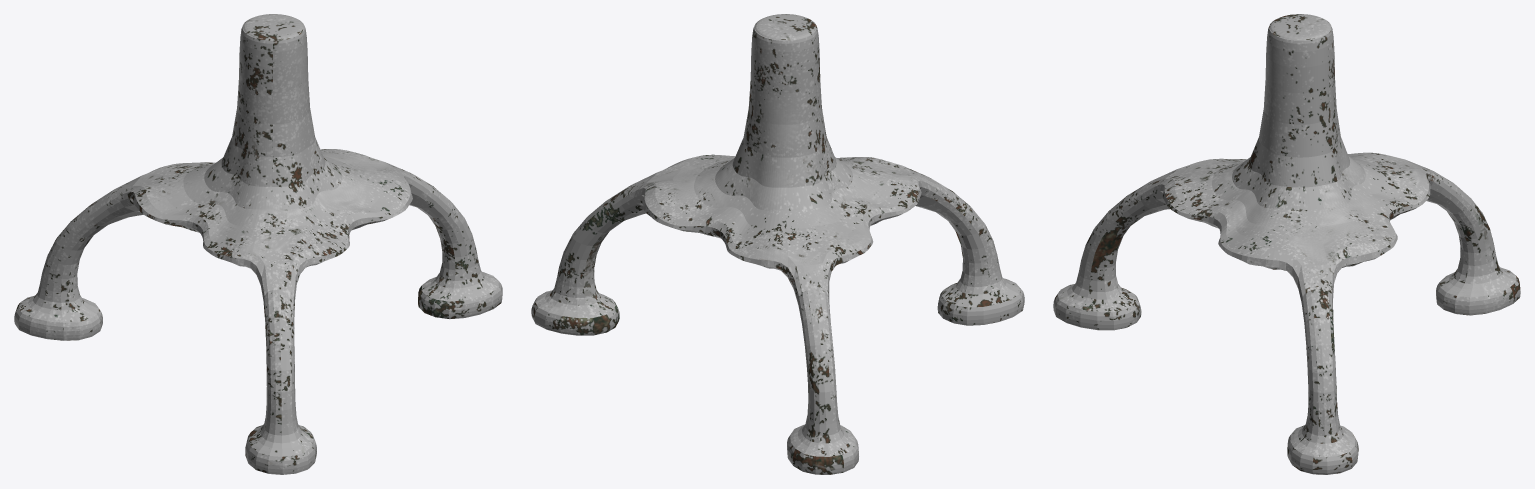
The model's file is SmallBase.fbx.
3 views of the same model, side by side, from view 1: azimuth 30°, elevation 25°; view 2: azimuth 150°, elevation 25°; view 3: azimuth 270°, elevation 25° (orthographic).
Parts seen in each view (by area): view 1: LowPoly; view 2: LowPoly; view 3: LowPoly.
Boxes of the visible parts, box(x1,y1,x2,y2) form: LowPoly: box(14, 14, 502, 474); LowPoly: box(531, 14, 1024, 474); LowPoly: box(1053, 14, 1520, 474).
Size of the model in its own units: 0.4635 by 0.3728 by 0.4695.
